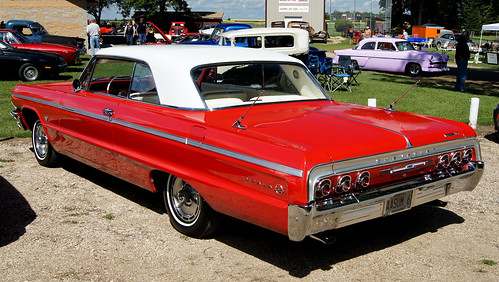car: (18, 46, 473, 234), (339, 38, 448, 81)
